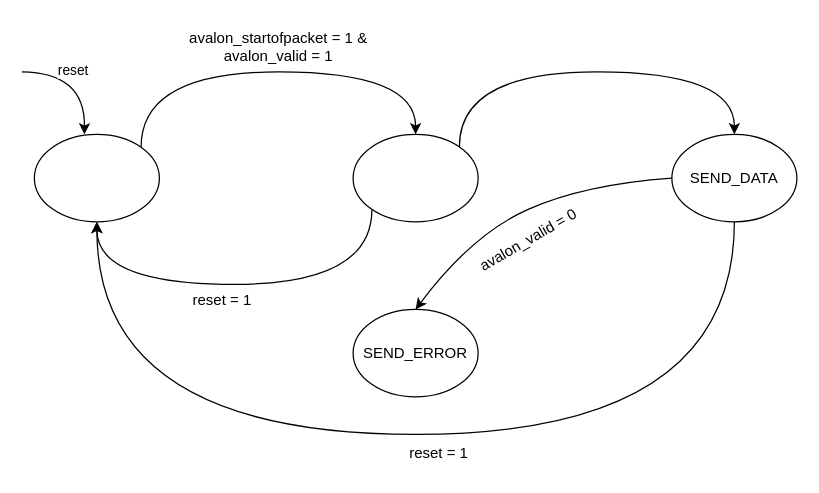
Image size: 819x493. Some labels were removed from this diagram. Each missing label, with the box of its shape:
IDLE: (33, 133, 159, 222)
SEND_HEAD: (352, 133, 478, 222)
